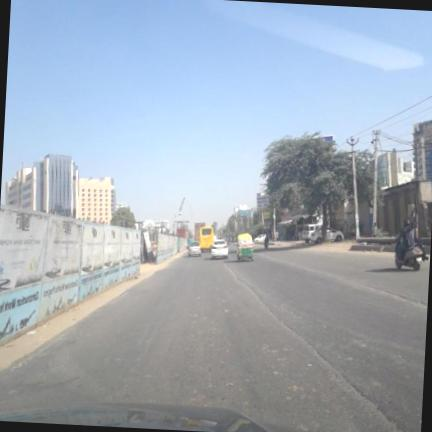Road: (0, 247, 429, 431)
